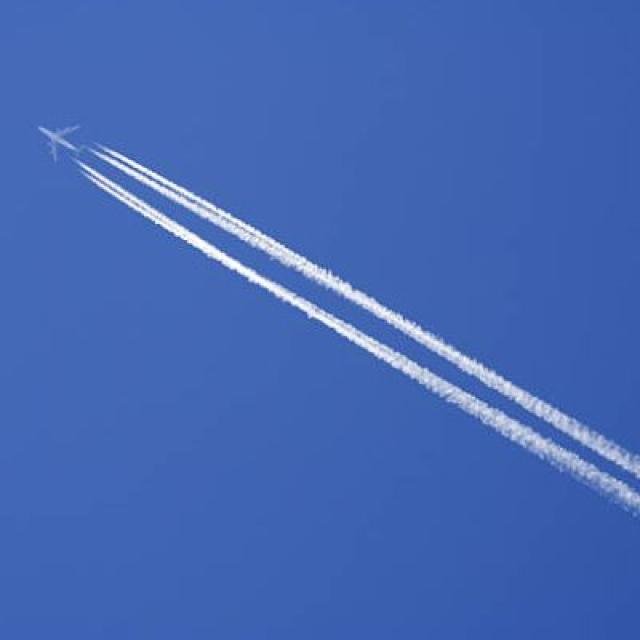Ct: (38, 106, 640, 529)
